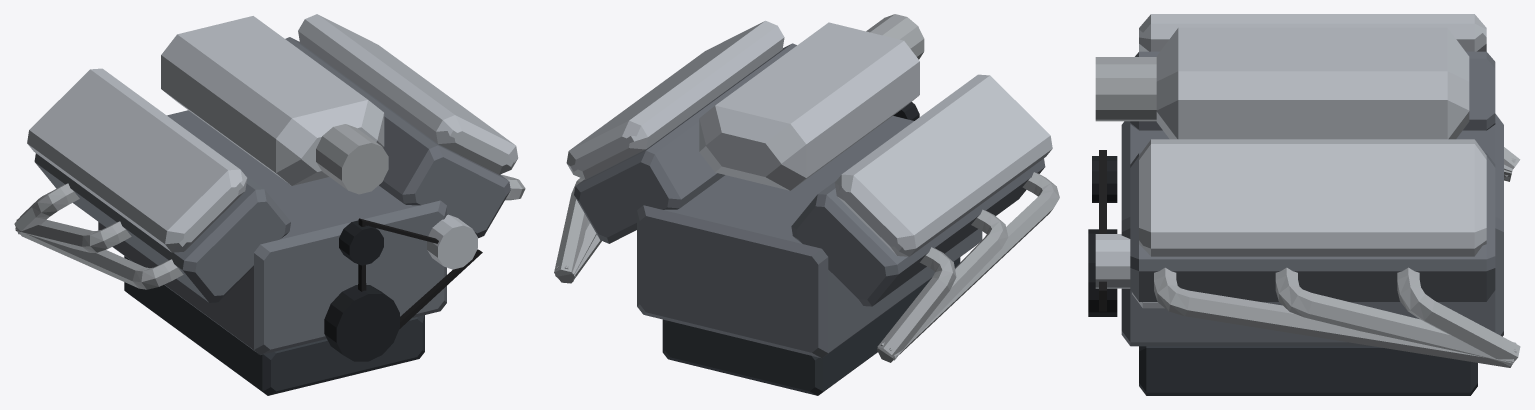
Rendered from crate_kmw_v6_35.glb.
3 renders of one model, left to right at view 1: azimuth 30°, elevation 25°; view 2: azimuth 150°, elevation 25°; view 3: azimuth 270°, elevation 25°, orthographic. The views are drawn at different scales.
Visible parts, largest first — view 1: model; view 2: model; view 3: model.
Part boxes in pixels (left/top/right/bottom): model: left=14, top=14, right=525, bottom=395; model: left=554, top=14, right=1059, bottom=395; model: left=1088, top=14, right=1520, bottom=395.
Size of the model in its own units: 0.7244 by 0.462 by 0.5968.
3 materials, 1 textured.
